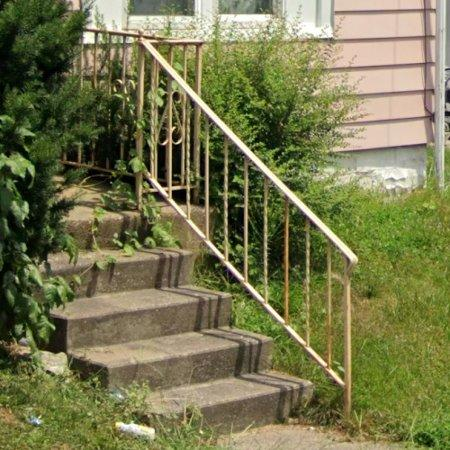stairs: (49, 189, 314, 432)
